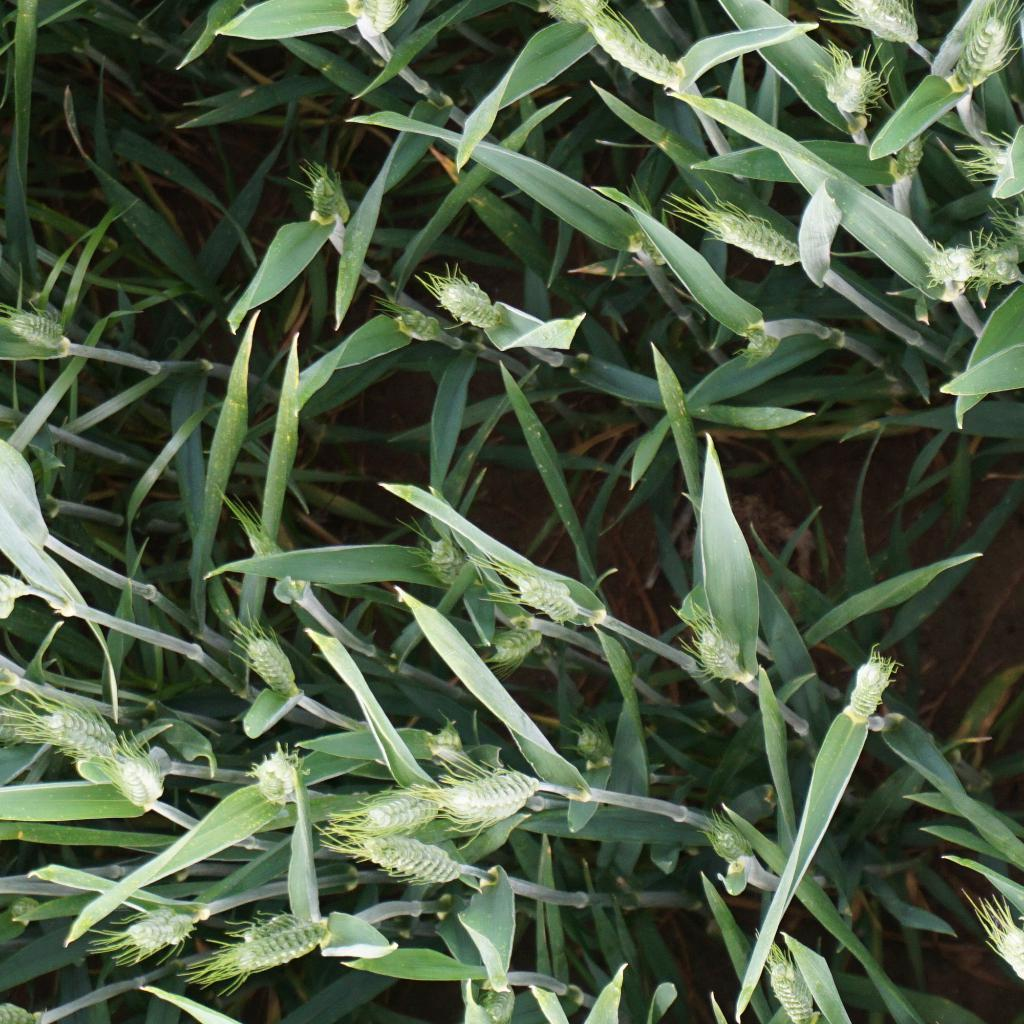0-0: (580, 13, 694, 96), (205, 927, 359, 983), (346, 823, 476, 889), (694, 200, 808, 273), (438, 764, 542, 833), (933, 8, 1017, 90), (109, 902, 204, 969), (228, 624, 307, 702), (486, 562, 581, 626), (41, 701, 131, 766), (416, 271, 507, 332), (240, 515, 305, 599), (818, 47, 892, 120), (100, 737, 168, 816), (360, 773, 449, 832), (753, 942, 817, 1024), (976, 910, 1024, 1006), (851, 650, 910, 721), (289, 165, 350, 229), (240, 753, 306, 811), (686, 628, 751, 684), (687, 815, 752, 866), (924, 240, 985, 292), (963, 240, 1024, 292), (375, 293, 439, 342), (839, 0, 917, 39), (241, 906, 313, 947), (489, 614, 544, 664), (419, 536, 466, 591), (634, 184, 667, 259), (0, 314, 68, 350), (346, 0, 408, 39), (739, 320, 783, 361), (485, 976, 523, 1023), (542, 0, 614, 22), (434, 713, 466, 761), (567, 729, 613, 762), (12, 887, 52, 922), (899, 131, 924, 183)
